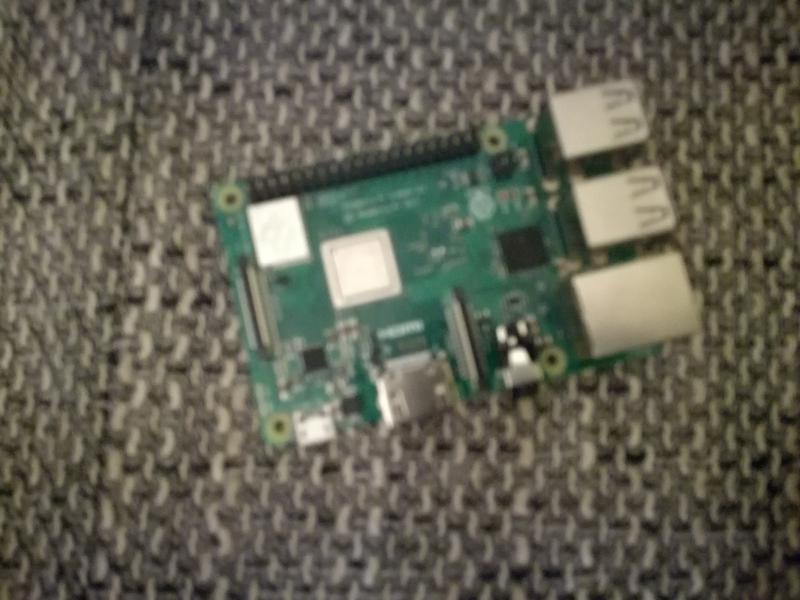Raspberry_Pi_3: (206, 74, 701, 452)
